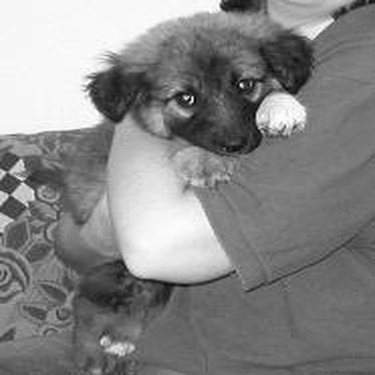dog: (22, 6, 318, 371)
